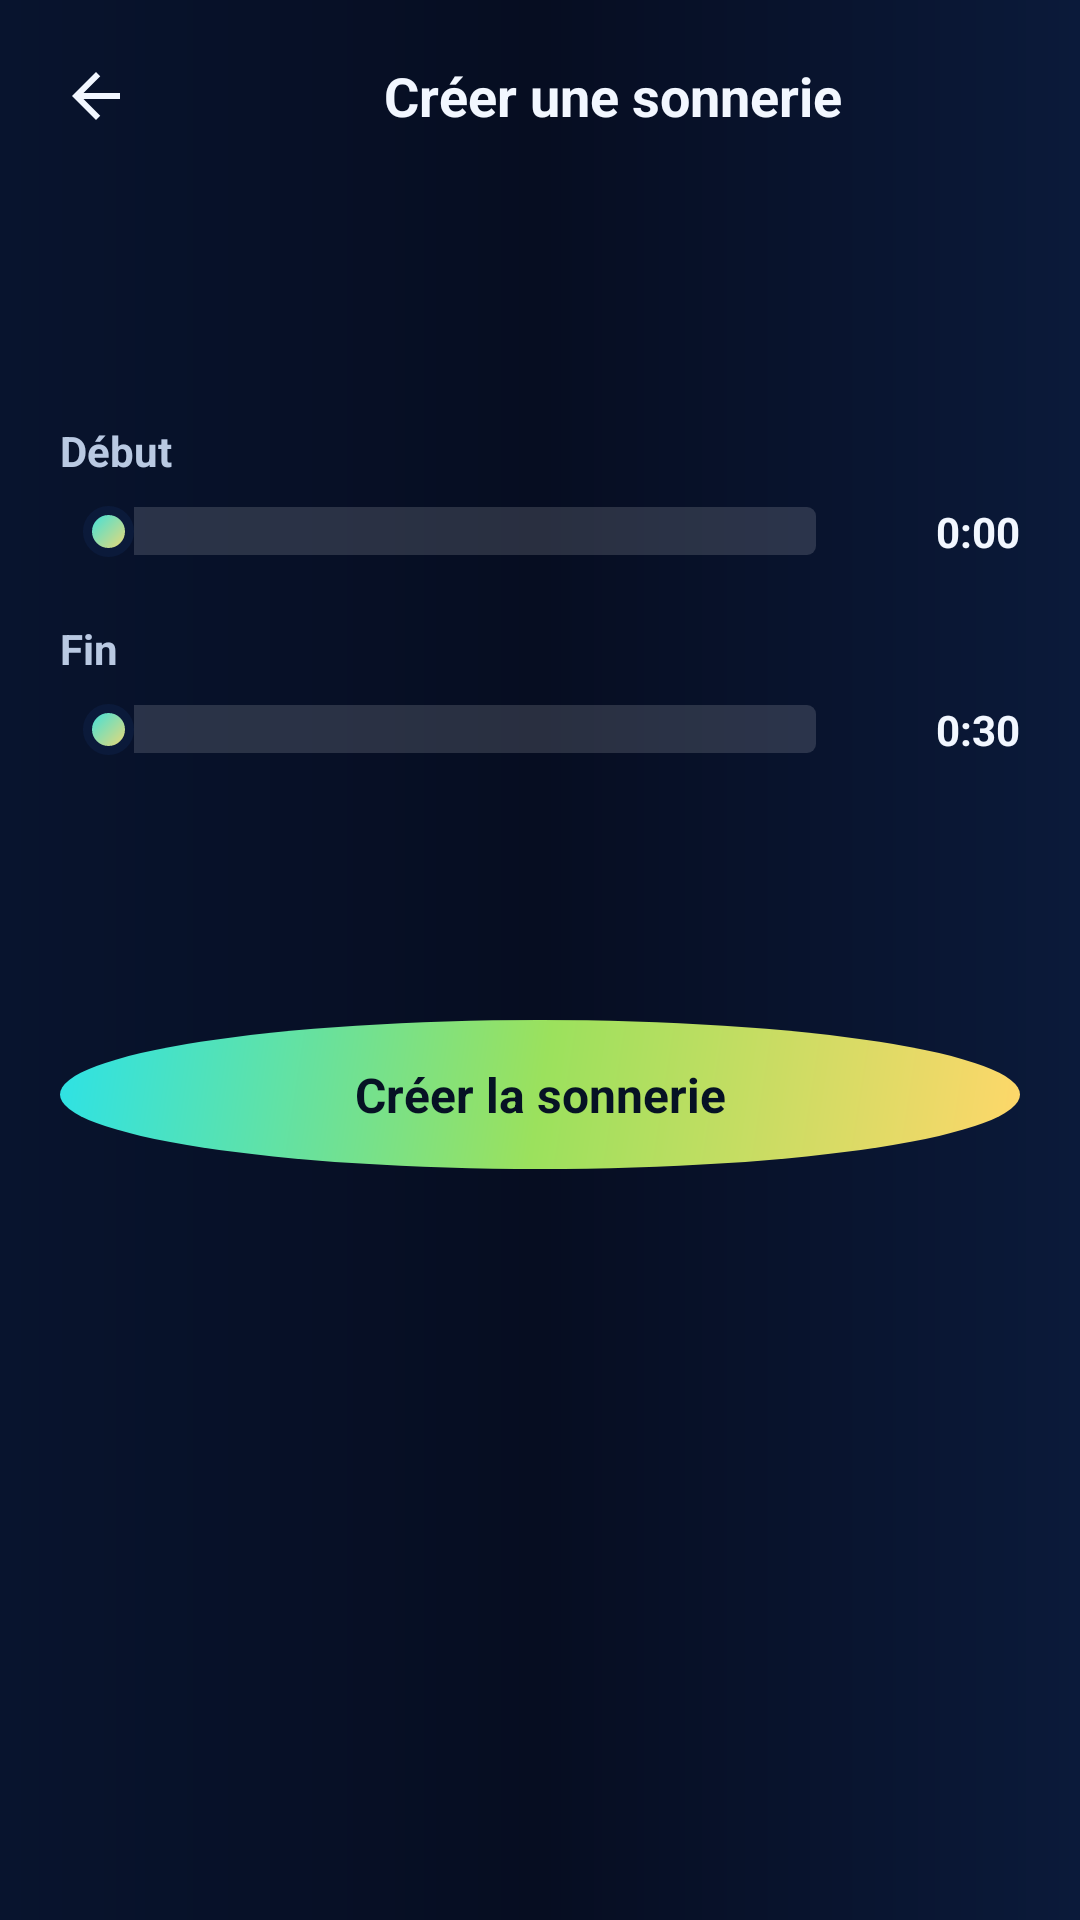

Named icons in this screenshot (1080 × 1920) and their bounding boxes, [left=x1, top=y1, right=x2, bottom=y2]:
Retour: [left=72, top=72, right=120, bottom=120]
